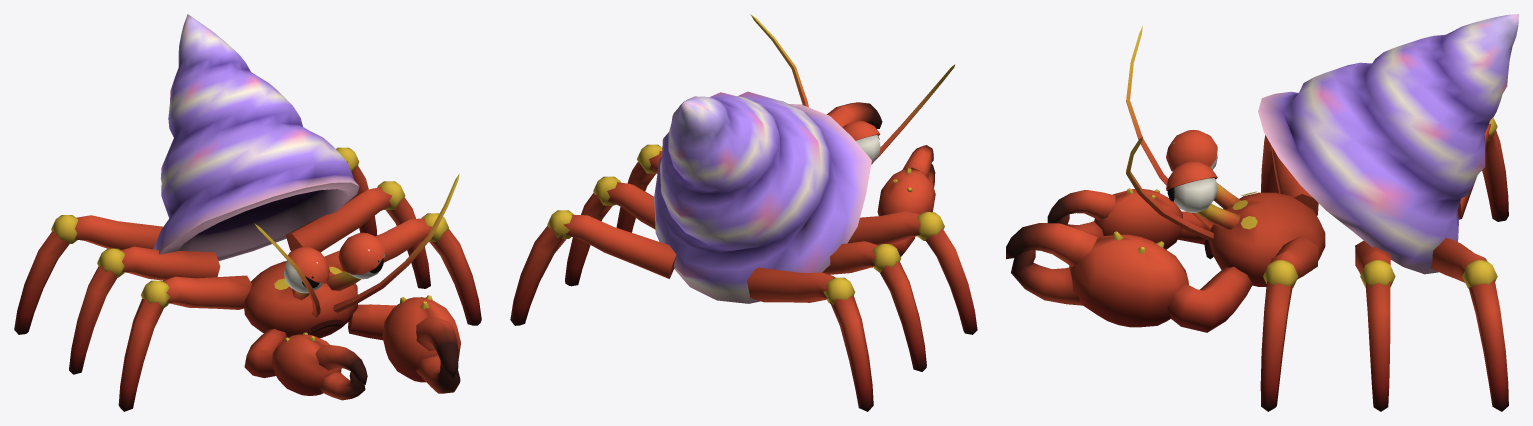
The model's file is bug_underwater.glb.
3 views of the same model, side by side, from view 1: azimuth 30°, elevation 25°; view 2: azimuth 150°, elevation 25°; view 3: azimuth 270°, elevation 25° (orthographic). The views are drawn at different scales.
Visible parts, largest first — view 1: body, leg_R1, leg_R2, leg_R3, leg_L2, leg_L1, eye_L, eye_R, leg_L3; view 2: body, leg_L3, leg_R3, leg_R1, leg_R2, leg_L2, leg_L1, eye_R; view 3: body, leg_L3, leg_L1, leg_L2, eye_L, leg_R3, leg_R1, eye_R.
Boxes of the visible parts, x1=… form: body: x1=153, y1=14, x2=460, y2=400; leg_R1: x1=118, y1=275, x2=251, y2=411; leg_R2: x1=69, y1=246, x2=220, y2=374; leg_R3: x1=14, y1=215, x2=162, y2=334; leg_L2: x1=286, y1=181, x2=430, y2=288; leg_L1: x1=324, y1=213, x2=481, y2=325; eye_L: x1=338, y1=232, x2=384, y2=279; eye_R: x1=283, y1=246, x2=329, y2=293; leg_L3: x1=336, y1=147, x2=376, y2=235; body: x1=654, y1=14, x2=955, y2=303; leg_L3: x1=510, y1=210, x2=676, y2=325; leg_R3: x1=747, y1=267, x2=873, y2=411; leg_R1: x1=848, y1=211, x2=977, y2=334; leg_R2: x1=822, y1=241, x2=926, y2=371; leg_L2: x1=565, y1=176, x2=655, y2=286; leg_L1: x1=616, y1=144, x2=662, y2=232; eye_R: x1=842, y1=120, x2=880, y2=162; body: x1=1006, y1=14, x2=1518, y2=332; leg_L3: x1=1431, y1=237, x2=1508, y2=411; leg_L1: x1=1260, y1=235, x2=1318, y2=411; leg_L2: x1=1355, y1=240, x2=1395, y2=411; eye_L: x1=1166, y1=161, x2=1217, y2=212; leg_R3: x1=1457, y1=117, x2=1508, y2=221; leg_R1: x1=1261, y1=135, x2=1318, y2=215; eye_R: x1=1166, y1=130, x2=1217, y2=171.
Bounding box in the file's own units: 1.1 × 0.7904 × 1.22.
